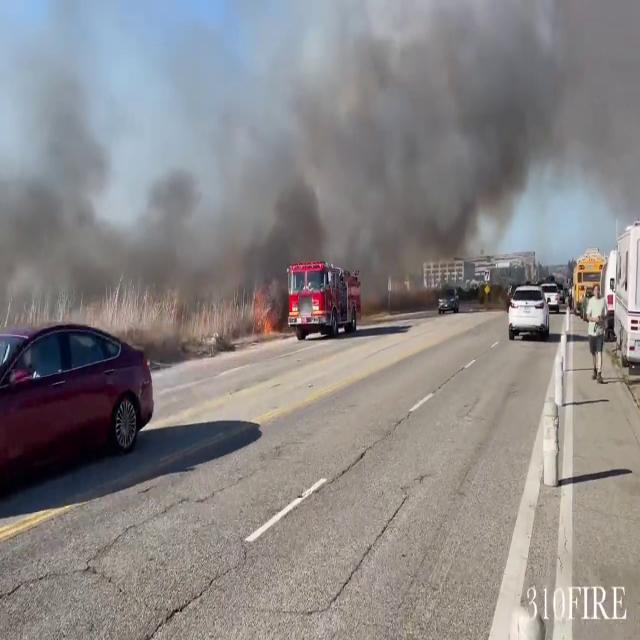Smoke: (0, 0, 636, 296)
